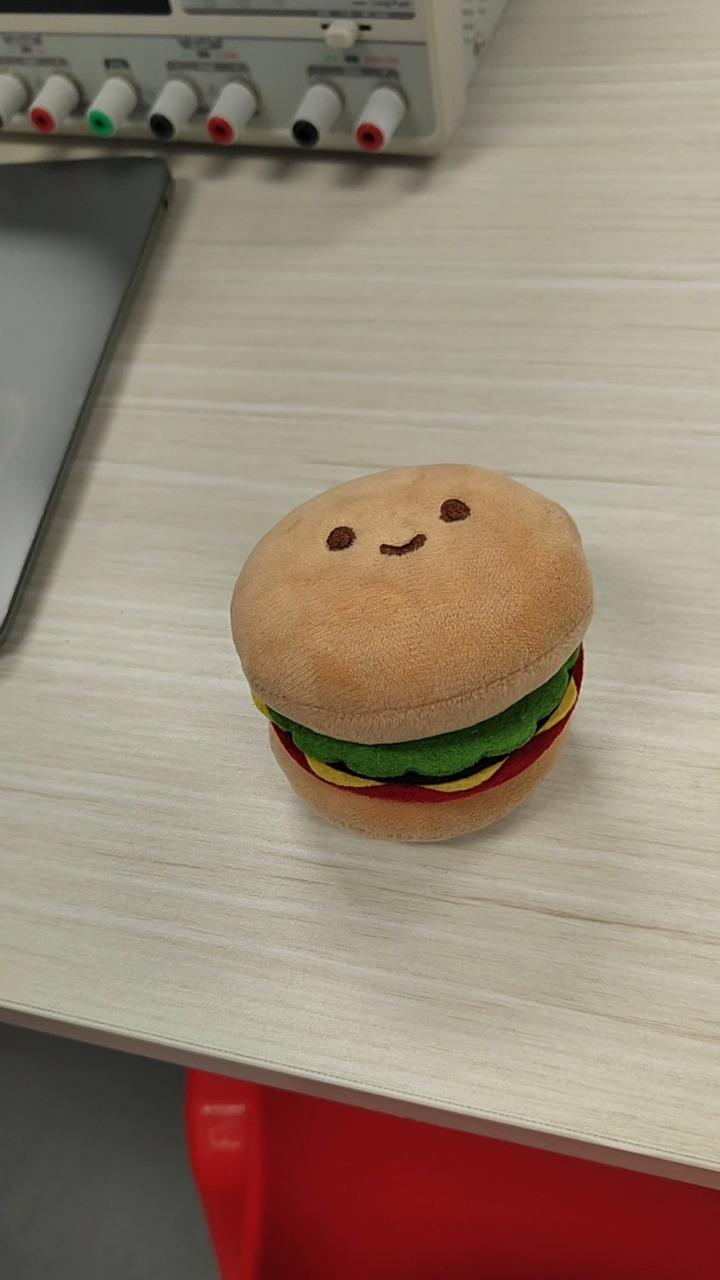hamburger: (228, 461, 594, 845)
